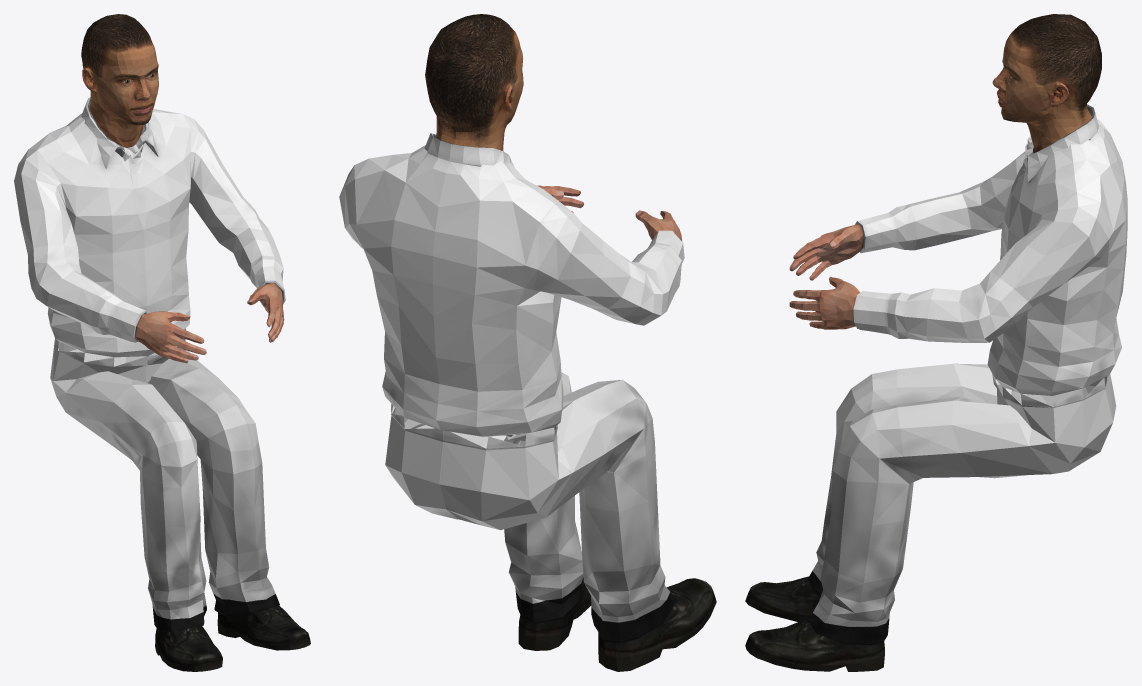
Rendered from marcus_formal.obj.
The picture shows the model from 3 angles, left to right: view 1: azimuth 30°, elevation 25°; view 2: azimuth 150°, elevation 25°; view 3: azimuth 270°, elevation 25°; orthographic projection. The views are drawn at different scales.
Visible parts, largest first — view 1: Top_shirt_3, Trousers_4, Head_0, Shoes_1, Skin_shirt_2; view 2: Top_shirt_3, Trousers_4, Head_0, Shoes_1, Skin_shirt_2; view 3: Top_shirt_3, Trousers_4, Head_0, Shoes_1, Skin_shirt_2.
Part boxes in pixels (x1=…): Top_shirt_3: x1=14, y1=97, x2=285, y2=357; Trousers_4: x1=50, y1=328, x2=275, y2=619; Head_0: x1=81, y1=14, x2=158, y2=147; Shoes_1: x1=153, y1=594, x2=310, y2=671; Skin_shirt_2: x1=88, y1=99, x2=284, y2=363; Top_shirt_3: x1=339, y1=133, x2=684, y2=436; Trousers_4: x1=385, y1=372, x2=670, y2=622; Head_0: x1=425, y1=14, x2=523, y2=150; Shoes_1: x1=515, y1=577, x2=716, y2=671; Skin_shirt_2: x1=433, y1=134, x2=682, y2=241; Top_shirt_3: x1=853, y1=104, x2=1127, y2=395; Trousers_4: x1=812, y1=363, x2=1116, y2=626; Head_0: x1=992, y1=14, x2=1101, y2=152; Shoes_1: x1=745, y1=571, x2=889, y2=671; Skin_shirt_2: x1=789, y1=106, x2=1093, y2=329.
Bounding box in the file's own units: 0.6251 × 1.44 × 0.7951.
Materials: 5 (5 with a texture image).
